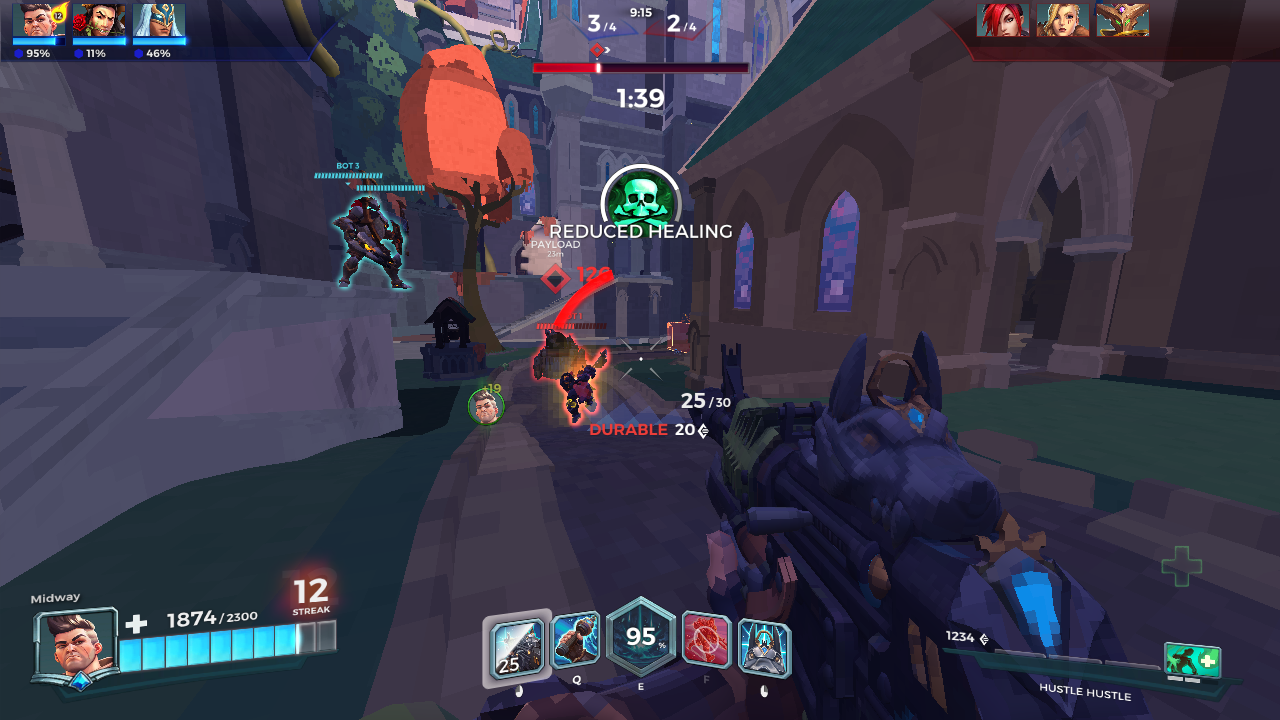model: (561, 354, 604, 426)
